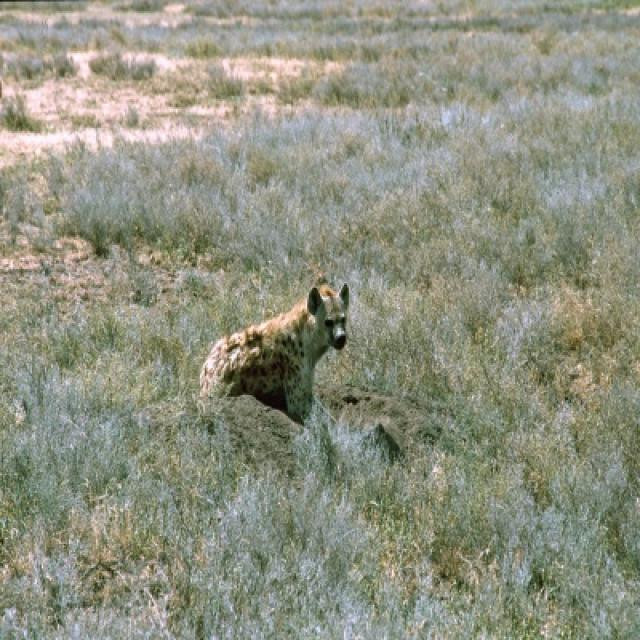hyena: (202, 285, 347, 426)
